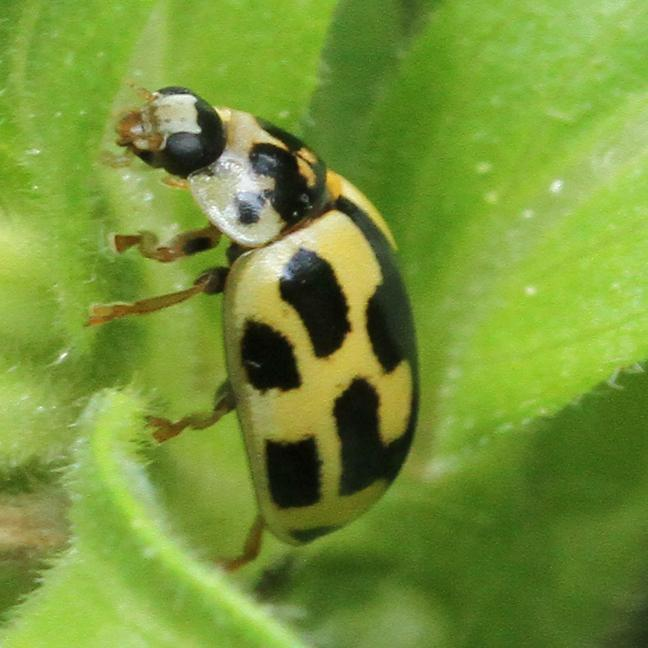ladybug: (83, 84, 424, 576)
